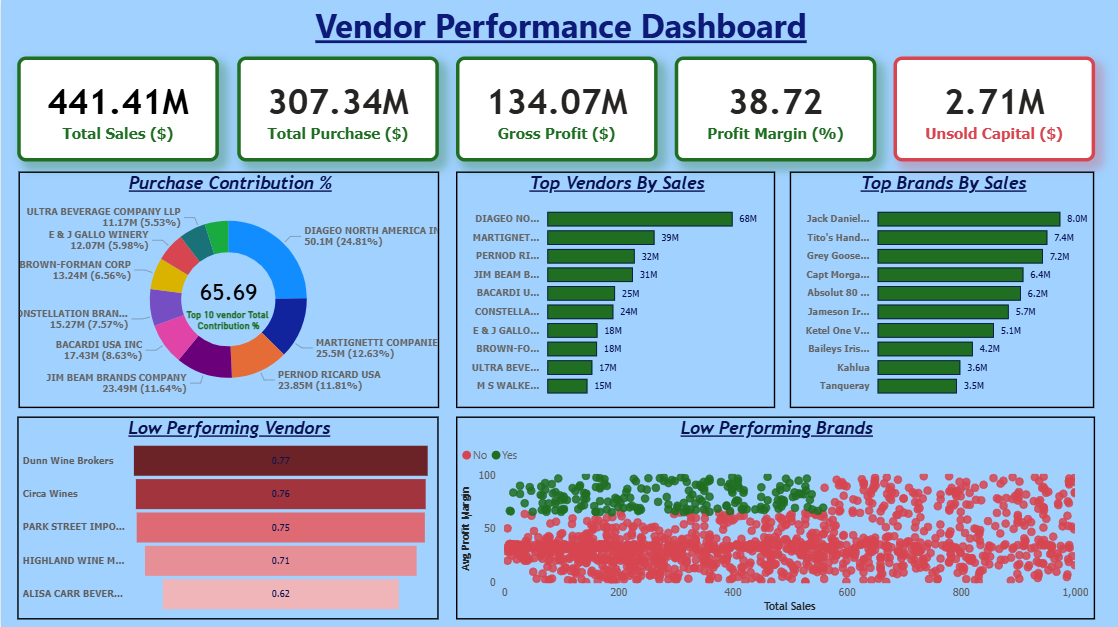

What the dashboard file says about the page in this screenshot:
{"tool":"powerbi","page":{"name":"Page 1","canvas":[1280,720],"ordinal":0},"visuals":[{"type":"textbox","box":[0,0,1280,64.3],"z":0},{"type":"card","fields":{"Values":["Sheet1.UnsoldCapital"]},"box":[1020,65,230,120],"z":1000},{"type":"card","fields":{"Values":["Sheet1.TotalPurchaseDollars"]},"box":[270,65,230,120],"z":2000},{"type":"card","fields":{"Values":["Sheet1.GrossProfit"]},"box":[520,65,230,120],"z":3000},{"type":"card","fields":{"Values":["Sheet1.ProfitMargin"]},"box":[770,65,230,120],"z":4000},{"type":"card","fields":{"Values":["Sheet1.TotalSalesDollars"]},"box":[18.3,65,230,120],"z":5000},{"type":"donutChart","title":"Purchase Contribution % ","fields":{"Category":["PurchaseContribution.VendorName"],"Y":["PurchaseContribution.TotalPurchaseDollars"]},"box":[19.3,196.4,480.7,270],"z":6000},{"type":"barChart","title":"Top Vendors By Sales","fields":{"Y":["Sheet1.TotalSalesDollars"],"Category":["Sheet1.VendorName"]},"box":[520,196.7,365,270],"z":7000},{"type":"barChart","title":"Top Brands By Sales","fields":{"Category":["Sheet1.Description"],"Y":["Sheet1.TotalSalesDollars"]},"box":[901.7,196.7,348.3,270],"z":8000},{"type":"funnel","title":"Low Performing Vendors","fields":{"Category":["LowTurnoverVendor.VendorName"],"Y":["LowTurnoverVendor.AvgStock TurnOver"]},"box":[18.3,476.7,481.7,231.7],"z":9000},{"type":"scatterChart","title":"Low Performing Brands","fields":{"Category":["BrandPerformance.Description"],"X":["BrandPerformance.TotalSales"],"Y":["BrandPerformance.AvgProfitMargin"],"Series":["BrandPerformance.TargetBrand"]},"box":[520,476.7,730,231.7],"z":10000},{"type":"card","fields":{"Values":["PurchaseContribution.PurchaseContribution%"]},"box":[201,286,118,111],"z":11000}]}

Visuals, with their boxes in screenshot pixels (x1, y1, x2, y2), scaled from the page's 1280x720 canvas onto the 1118x627 screenshot:
textbox: bbox(0, 0, 1117, 56)
card - Sheet1.UnsoldCapital: bbox(891, 57, 1092, 161)
card - Sheet1.TotalPurchaseDollars: bbox(236, 57, 437, 161)
card - Sheet1.GrossProfit: bbox(454, 57, 655, 161)
card - Sheet1.ProfitMargin: bbox(673, 57, 873, 161)
card - Sheet1.TotalSalesDollars: bbox(16, 57, 217, 161)
"Purchase Contribution % " donutChart: bbox(17, 171, 437, 406)
"Top Vendors By Sales" barChart: bbox(454, 171, 773, 406)
"Top Brands By Sales" barChart: bbox(788, 171, 1092, 406)
"Low Performing Vendors" funnel: bbox(16, 415, 437, 617)
"Low Performing Brands" scatterChart: bbox(454, 415, 1092, 617)
card - PurchaseContribution.PurchaseContribution%: bbox(176, 249, 279, 346)
